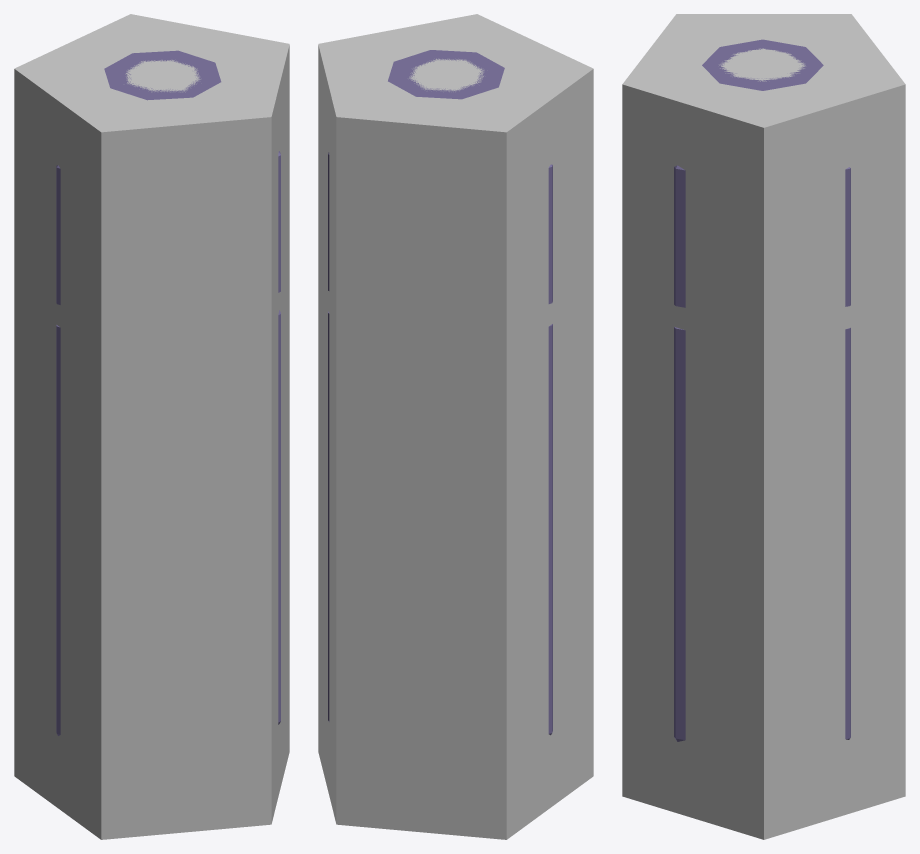
Rendered from SM_Light_Cylinder_01.fbx.
3 views of the same model, side by side, from view 1: azimuth 30°, elevation 25°; view 2: azimuth 150°, elevation 25°; view 3: azimuth 270°, elevation 25° (orthographic).
Parts seen in each view (by area): view 1: SM_Light_Cylinder_01_ConvexHulls, SM_Light_Cylinder_01; view 2: SM_Light_Cylinder_01_ConvexHulls, SM_Light_Cylinder_01; view 3: SM_Light_Cylinder_01_ConvexHulls, SM_Light_Cylinder_01.
Part boxes in pixels (x1,y1,x2,y2): SM_Light_Cylinder_01_ConvexHulls: (14,14,289,839); SM_Light_Cylinder_01: (56,50,280,735); SM_Light_Cylinder_01_ConvexHulls: (318,14,593,839); SM_Light_Cylinder_01: (328,50,552,735); SM_Light_Cylinder_01_ConvexHulls: (622,14,905,839); SM_Light_Cylinder_01: (674,39,850,741).
Bounding box in the file's own units: 124 × 129 × 358.
Materials: 2 (1 with a texture image).
